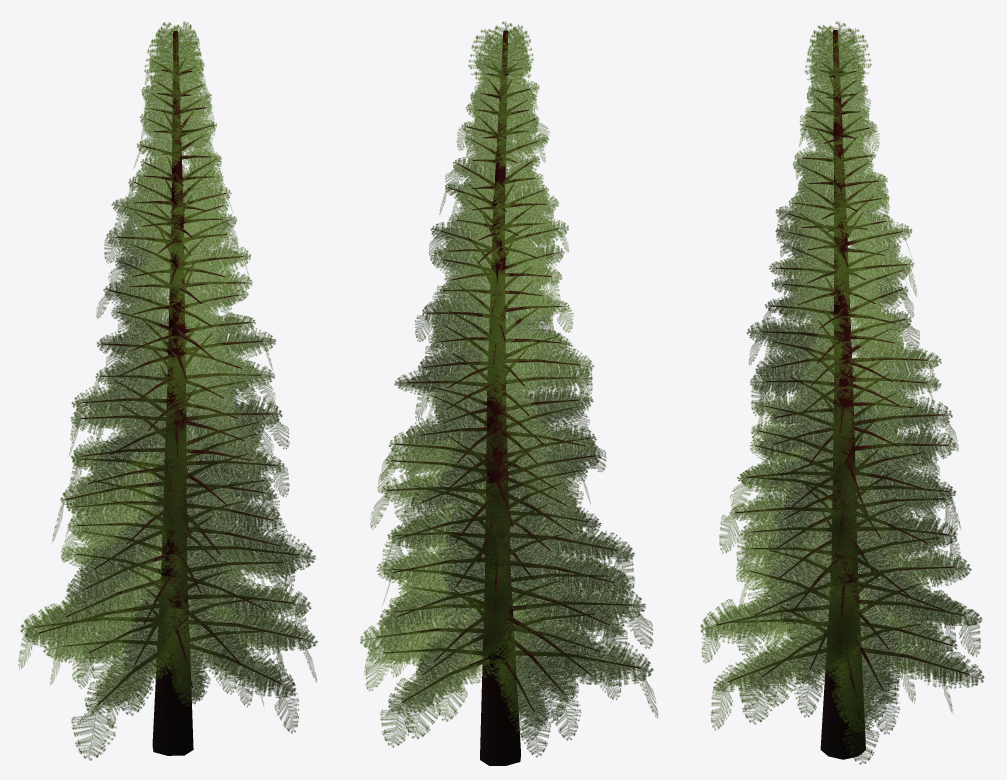
File: larch_sparse_v01_LOD1.glb
3 views of the same model, side by side, from view 1: azimuth 30°, elevation 25°; view 2: azimuth 150°, elevation 25°; view 3: azimuth 270°, elevation 25° (orthographic).
Parts seen in each view (by area): view 1: larch_sparse_v01_LOD1; view 2: larch_sparse_v01_LOD1; view 3: larch_sparse_v01_LOD1.
Part boxes in pixels (x1,y1,x2,y2): larch_sparse_v01_LOD1: (18,21,317,760); larch_sparse_v01_LOD1: (360,21,658,765); larch_sparse_v01_LOD1: (700,21,984,764).
Bounding box in the file's own units: 5.39 × 14.21 × 5.28.
2 materials, 2 textured.
